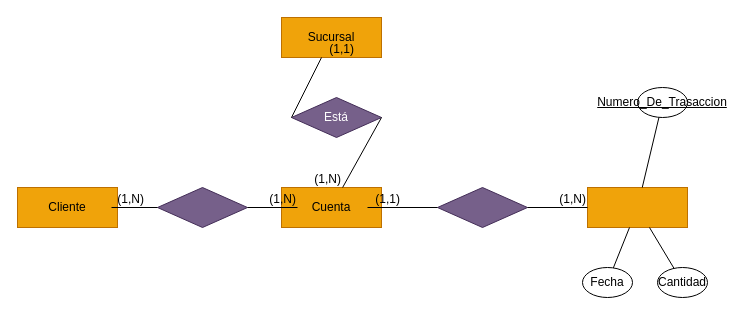
The diagram is 745 pixels wide and 315 high, and some of its shapes have lost their labels. Each missing label, with the centre of its shape:
"Tiene" belongs at [202,207].
"Trasaccion" belongs at [637,207].
"viene" belongs at [482,207].
